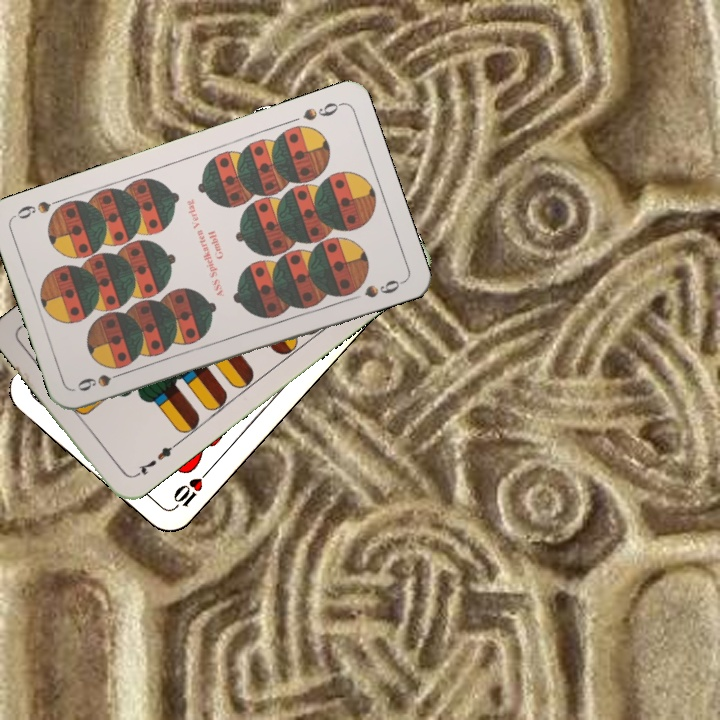E7: (129, 439, 180, 481)
H10: (167, 465, 213, 513)
S9: (73, 366, 130, 394), (299, 98, 345, 124)
